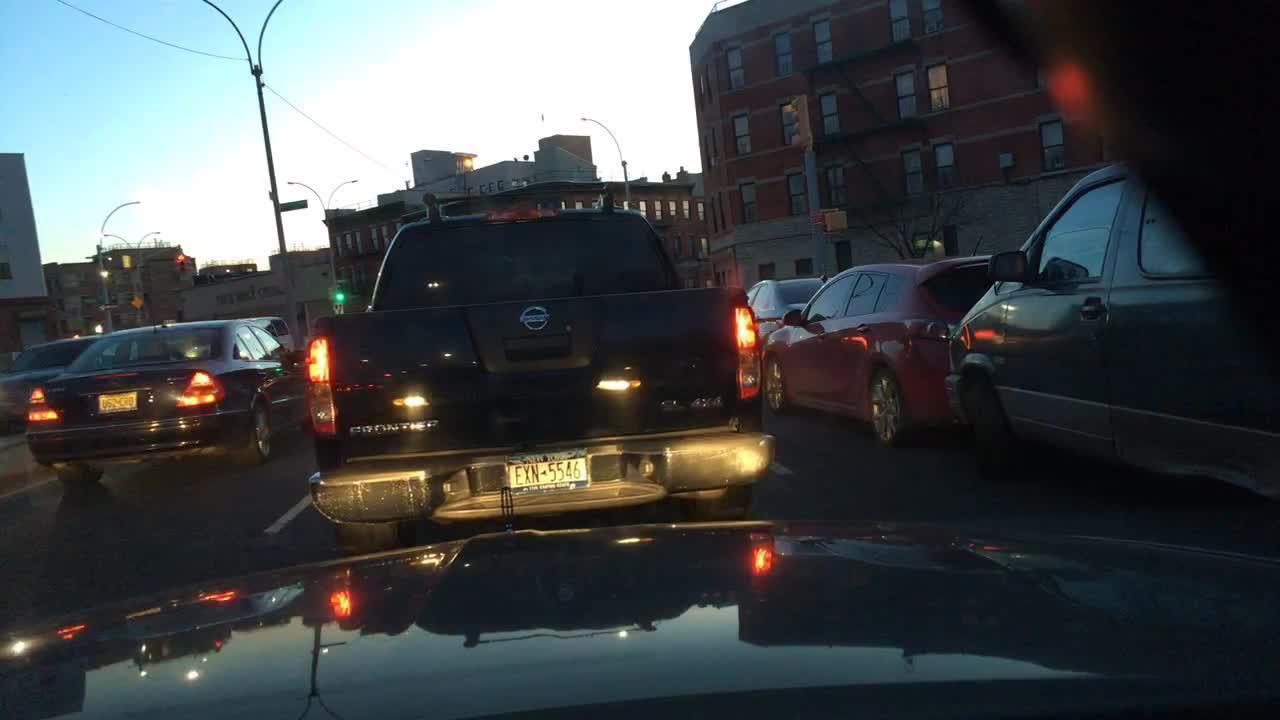Nissan: (504, 301, 567, 336)
